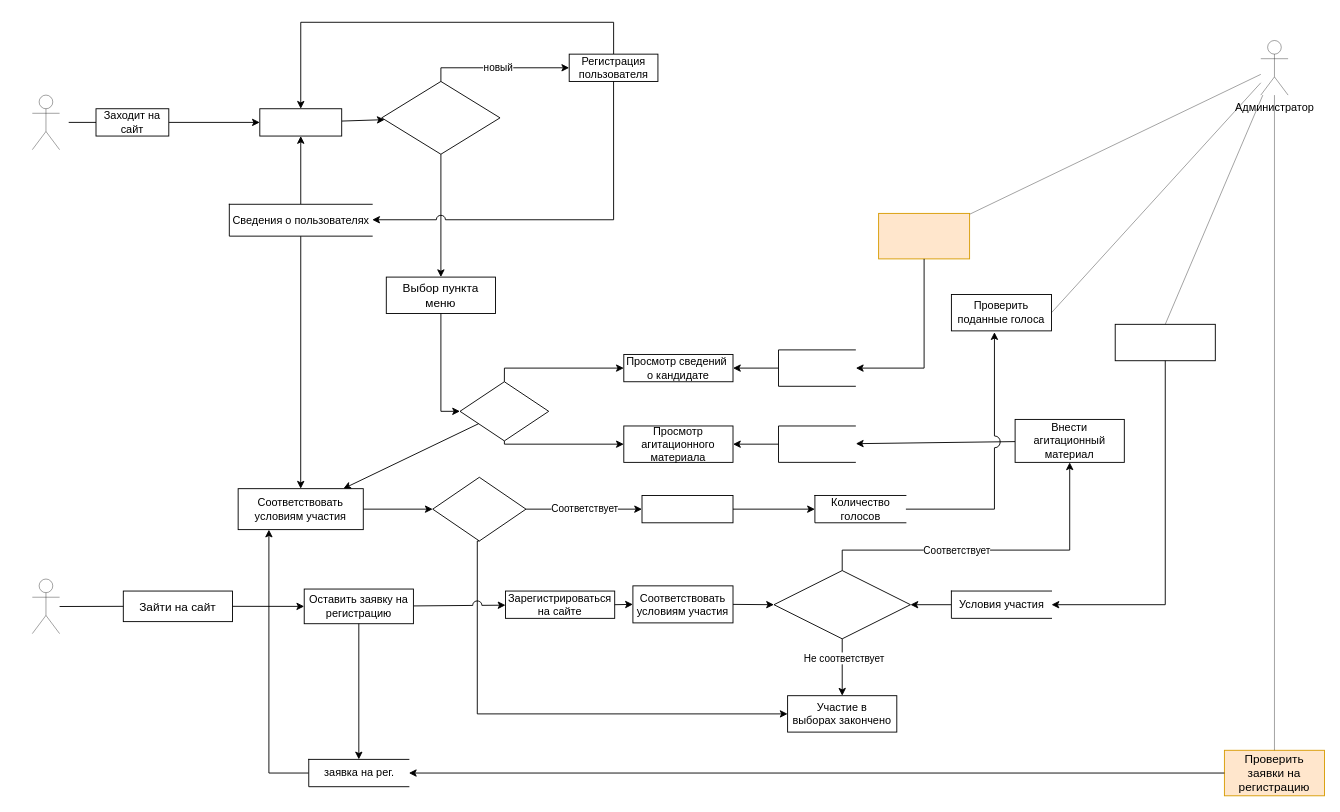
Some shapes in this 1340 by 812 pixel diagram are drawn without their labels. The shapes that lost their labels are listed below. From the top down, each one's centre as x and y in pixels, then its label:
the point at 45,122: Избиратель
the point at 300,122: Авторизация
the point at 924,235: Внести сведения о кандидатах
the point at 1164,342: Внести условия участия в выборах
the point at 817,367: Сведения о кандидате
the point at 817,443: Агитационный материал
the point at 687,509: Оставить голос
the point at 45,606: Кандидат
